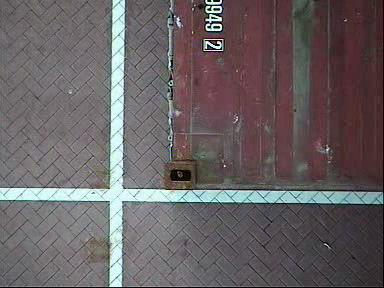groundmarker_2: (76, 68, 257, 168)
